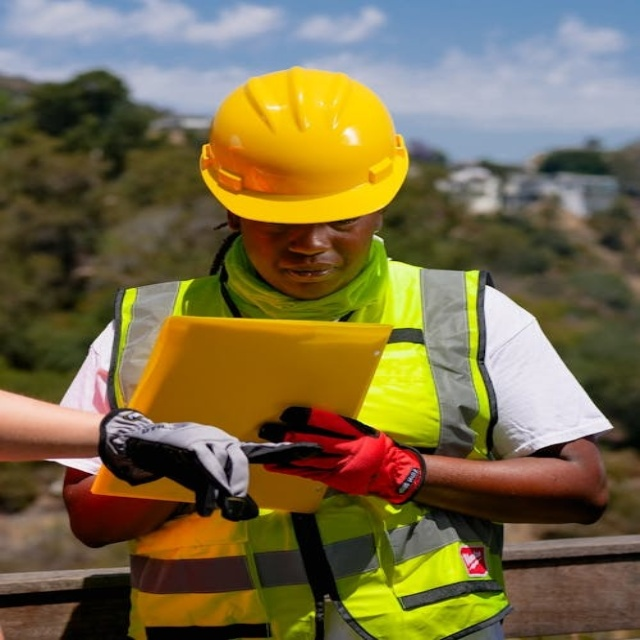Guantes: (258, 405, 427, 505), (98, 408, 258, 510)
Sin_mascara: (260, 255, 349, 295)
